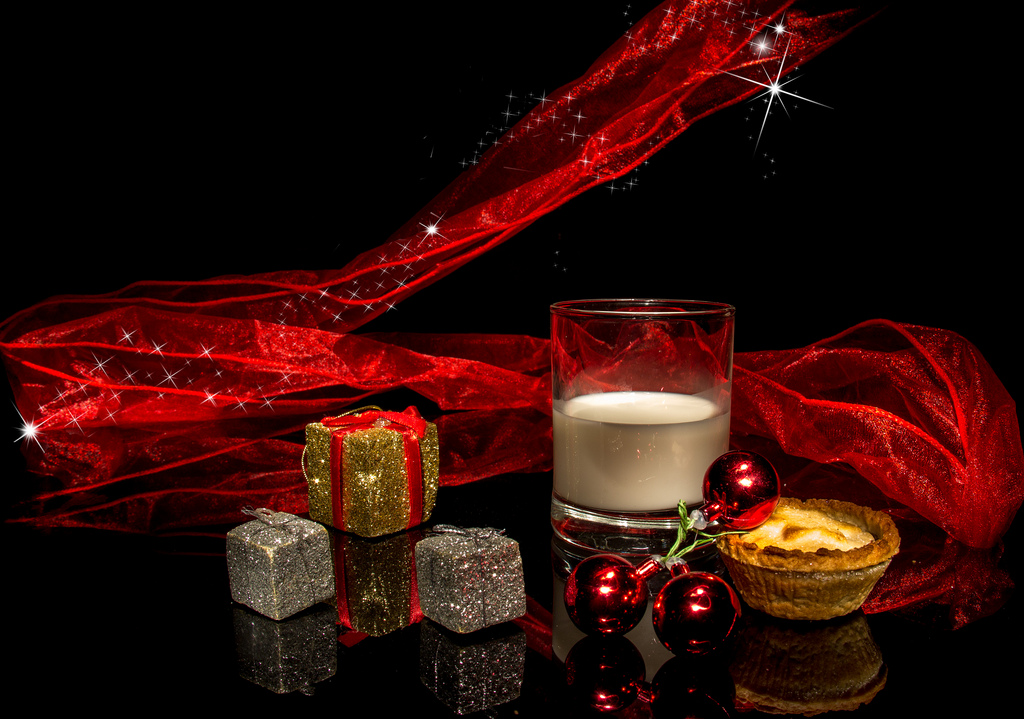glass of milk: (547, 289, 748, 569)
